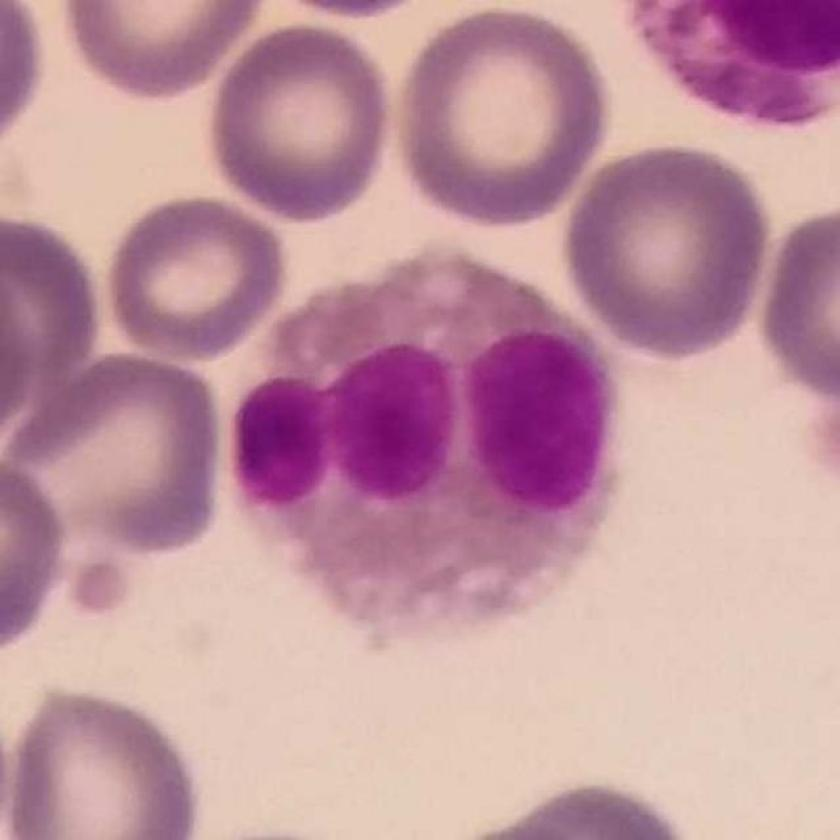eosinophil: (227, 237, 634, 656)
